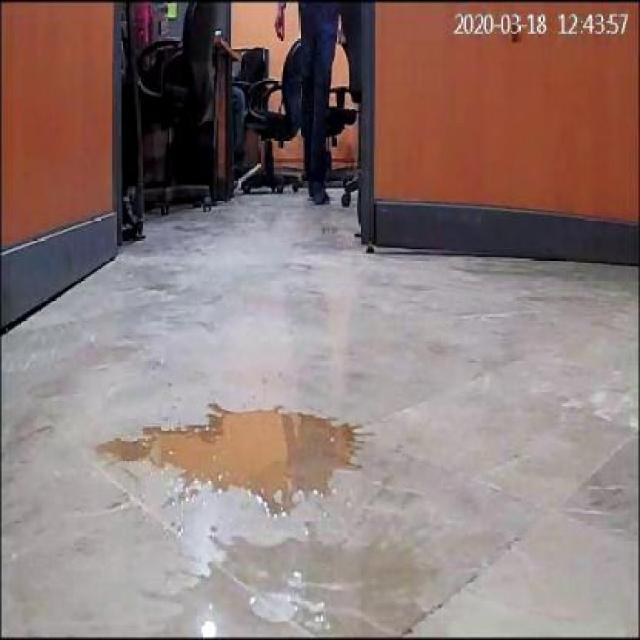spill: (95, 394, 377, 508), (156, 527, 429, 636)
